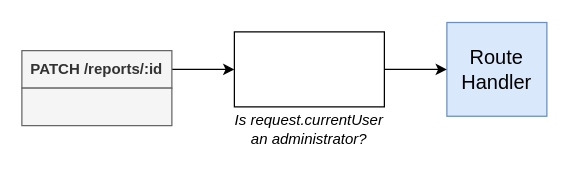
The diagram is 569 pixels wide and 171 high, and some of its shapes have lost their labels. The shapes that lost their labels are listed below. From the top down, each one's centre as x and y in pixels, then its label:
the point at 308,69: AdminGuard
the point at 96,106: { approved: true }
